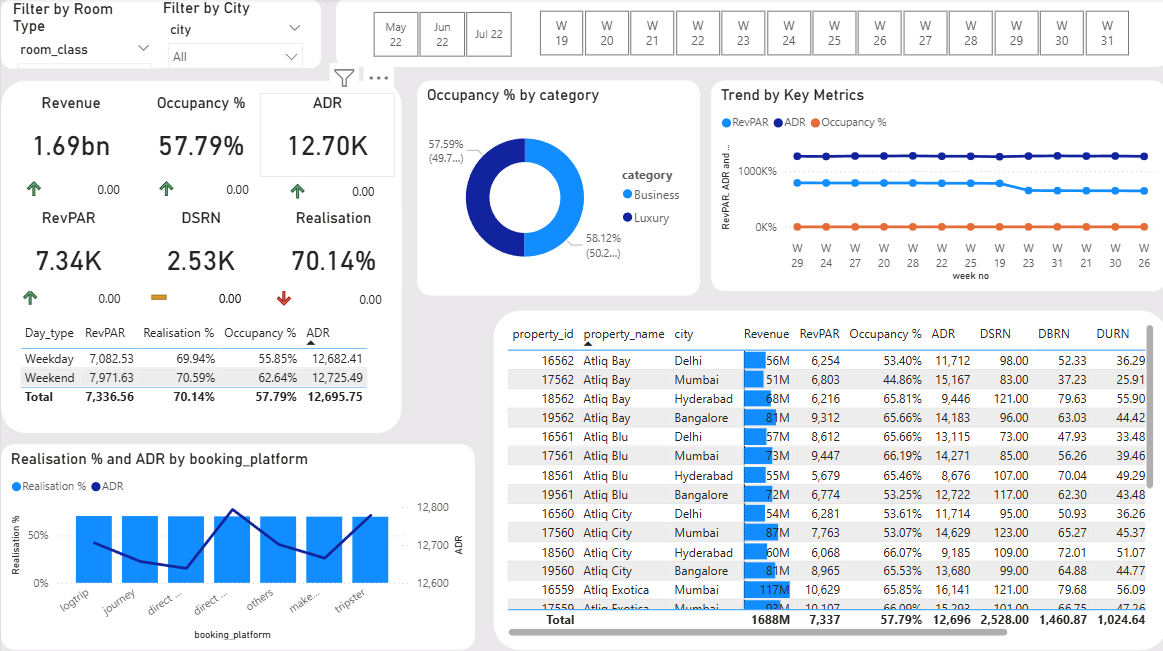

The page's visual inventory and layout, read from the dashboard file:
{"tool":"powerbi","page":{"name":"Page 1","canvas":[1280,720],"ordinal":0},"visuals":[{"type":"shape","box":[0,90,440,387.1],"z":0},{"type":"tableEx","fields":{"Values":["key_measures.Realisation WoW change %"]},"box":[291.4,291.4,147.1,68.6],"z":1000},{"type":"tableEx","fields":{"Values":["key_measures.DSRN WoW change %"]},"box":[154.3,290,130,70],"z":2000},{"type":"tableEx","fields":{"Values":["key_measures.Revpar WoW change %"]},"box":[12.9,290,138.6,61.4],"z":3000},{"type":"tableEx","fields":{"Values":["key_measures.ADR WoW change %"]},"box":[305.7,172.9,124.3,55.7],"z":4000},{"type":"tableEx","fields":{"Values":["key_measures.Occupancy WoW change %"]},"box":[161.4,170,130,58.6],"z":5000},{"type":"tableEx","fields":{"Values":["key_measures.Revenue WoW change %"]},"box":[17.1,170,134.3,71.4],"z":6000},{"type":"shape","box":[367.1,0,912.9,75.7],"z":7000},{"type":"shape","box":[0,1.4,351.4,75.7],"z":8000},{"type":"tableEx","fields":{"Values":["dim_hotels.property_id","dim_hotels.property_name","dim_hotels.city","key_measures.Revenue","key_measures.RevPAR","key_measures.Occupancy %","key_measures.ADR","key_measures.DSRN","key_measures.DBRN","key_measures.DURN","key_measures.Realisation %","key_measures.Cancellation %"]},"box":[540,342.9,740,372.9],"z":9000},{"type":"slicer","title":"Filter by City","fields":{"Values":["dim_hotels.city"]},"box":[172.9,0,168.6,75.7],"z":10000},{"type":"slicer","title":"Filter by Room Type","fields":{"Values":["dim_rooms.room_class"]},"box":[8.6,1.4,167.1,75.7],"z":11000},{"type":"slicer","fields":{"Values":["dim_date.mmm yy"]},"box":[382.9,8.6,201.4,62.9],"z":12000},{"type":"slicer","fields":{"Values":["dim_date.week no"]},"box":[565.7,7.1,697.1,62.9],"z":13000},{"type":"card","title":"Revenue","fields":{"Values":["key_measures.Revenue"]},"box":[2.9,104.3,148.6,91.4],"z":14000},{"type":"donutChart","fields":{"Category":["dim_hotels.category"],"Y":["key_measures.Occupancy %"]},"box":[457.1,90,310,235.7],"z":15000},{"type":"card","title":"RevPAR","fields":{"Values":["key_measures.RevPAR"]},"box":[0,230,148.6,91.4],"z":16000},{"type":"card","title":"DSRN","fields":{"Values":["key_measures.DSRN"]},"box":[145.7,230,148.6,91.4],"z":17000},{"type":"card","title":"Occupancy %","fields":{"Values":["key_measures.Occupancy %"]},"box":[145.7,104.3,148.6,91.4],"z":18000},{"type":"card","title":"ADR","fields":{"Values":["key_measures.ADR"]},"box":[284.3,104.3,148.6,91.4],"z":19000},{"type":"card","title":"Realisation","fields":{"Values":["key_measures.Realisation %"]},"box":[291.4,230,148.6,91.4],"z":20000},{"type":"lineChart","title":"Trend by Key Metrics","fields":{"Category":["dim_date.week no"],"Y":["key_measures.RevPAR","key_measures.ADR","key_measures.Occupancy %"]},"box":[780,90,500,231.4],"z":21000},{"type":"lineStackedColumnComboChart","fields":{"Category":["fact_bookings.booking_platform"],"Y":["key_measures.Realisation %"],"Y2":["key_measures.ADR"]},"box":[0,490,520,225.7],"z":22000},{"type":"tableEx","fields":{"Values":["dim_date.Day_type","key_measures.RevPAR","key_measures.Realisation %","key_measures.Occupancy %","key_measures.ADR"]},"box":[15.7,351.4,394.3,105.7],"z":23000}]}

Visuals, with their boxes in screenshot pixels (x1, y1, x2, y2), scaled from the page's 1280x720 canvas onto the 1163x651 screenshot:
shape: (0, 81, 400, 431)
tableEx - key_measures.Realisation WoW change %: (265, 263, 398, 326)
tableEx - key_measures.DSRN WoW change %: (140, 262, 258, 326)
tableEx - key_measures.Revpar WoW change %: (12, 262, 138, 318)
tableEx - key_measures.ADR WoW change %: (278, 156, 391, 207)
tableEx - key_measures.Occupancy WoW change %: (147, 154, 265, 207)
tableEx - key_measures.Revenue WoW change %: (16, 154, 138, 218)
shape: (334, 0, 1162, 68)
shape: (0, 1, 319, 70)
tableEx - dim_hotels.property_id x dim_hotels.property_name: (491, 310, 1162, 647)
"Filter by City" slicer: (157, 0, 310, 68)
"Filter by Room Type" slicer: (8, 1, 160, 70)
slicer - dim_date.mmm yy: (348, 8, 531, 65)
slicer - dim_date.week no: (514, 6, 1147, 63)
"Revenue" card: (3, 94, 138, 177)
donutChart - dim_hotels.category x key_measures.Occupancy %: (415, 81, 697, 294)
"RevPAR" card: (0, 208, 135, 291)
"DSRN" card: (132, 208, 267, 291)
"Occupancy %" card: (132, 94, 267, 177)
"ADR" card: (258, 94, 393, 177)
"Realisation" card: (265, 208, 400, 291)
"Trend by Key Metrics" lineChart: (709, 81, 1162, 291)
lineStackedColumnComboChart - fact_bookings.booking_platform x key_measures.Realisation %: (0, 443, 472, 647)
tableEx - dim_date.Day_type x key_measures.RevPAR: (14, 318, 373, 413)
